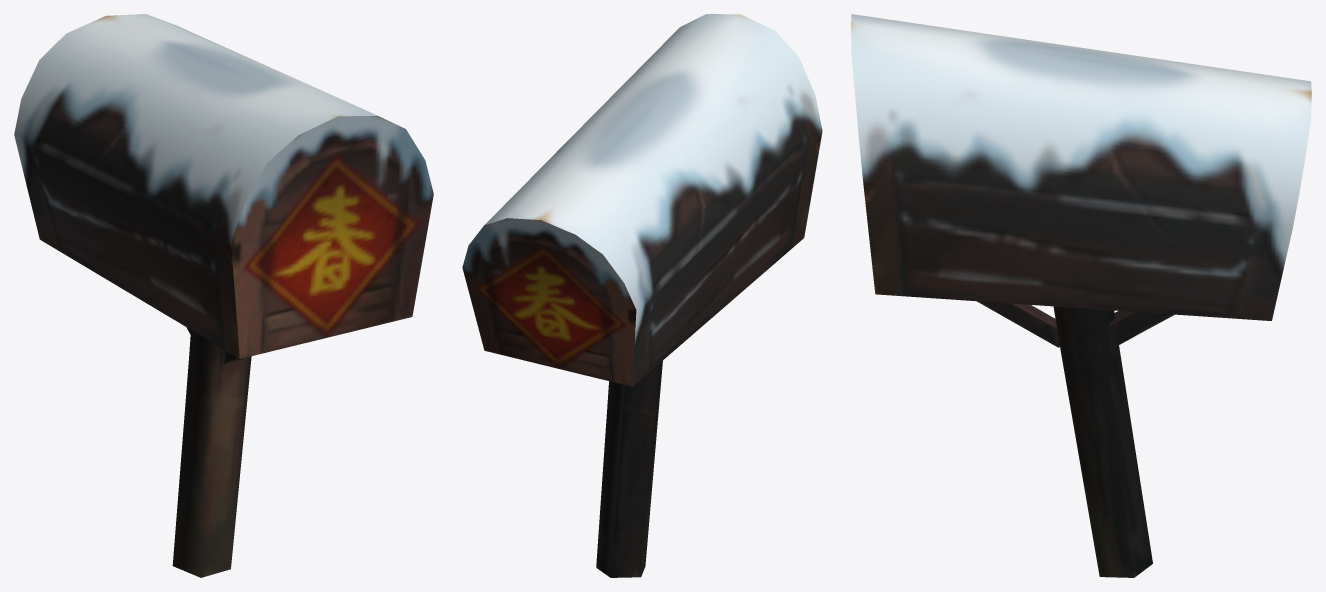
The model's file is xinxian.FBX.
3 views of the same model, side by side, from view 1: azimuth 30°, elevation 25°; view 2: azimuth 150°, elevation 25°; view 3: azimuth 270°, elevation 25° (orthographic). The views are drawn at different scales.
Visible parts, largest first — view 1: xinxian; view 2: xinxian; view 3: xinxian.
Part boxes in pixels (box(x1,y1,x2,y2)): xinxian: box(14, 14, 433, 577); xinxian: box(462, 14, 822, 577); xinxian: box(851, 14, 1311, 577).
Size of the model in its own units: 26.99 by 69.88 by 53.59.
